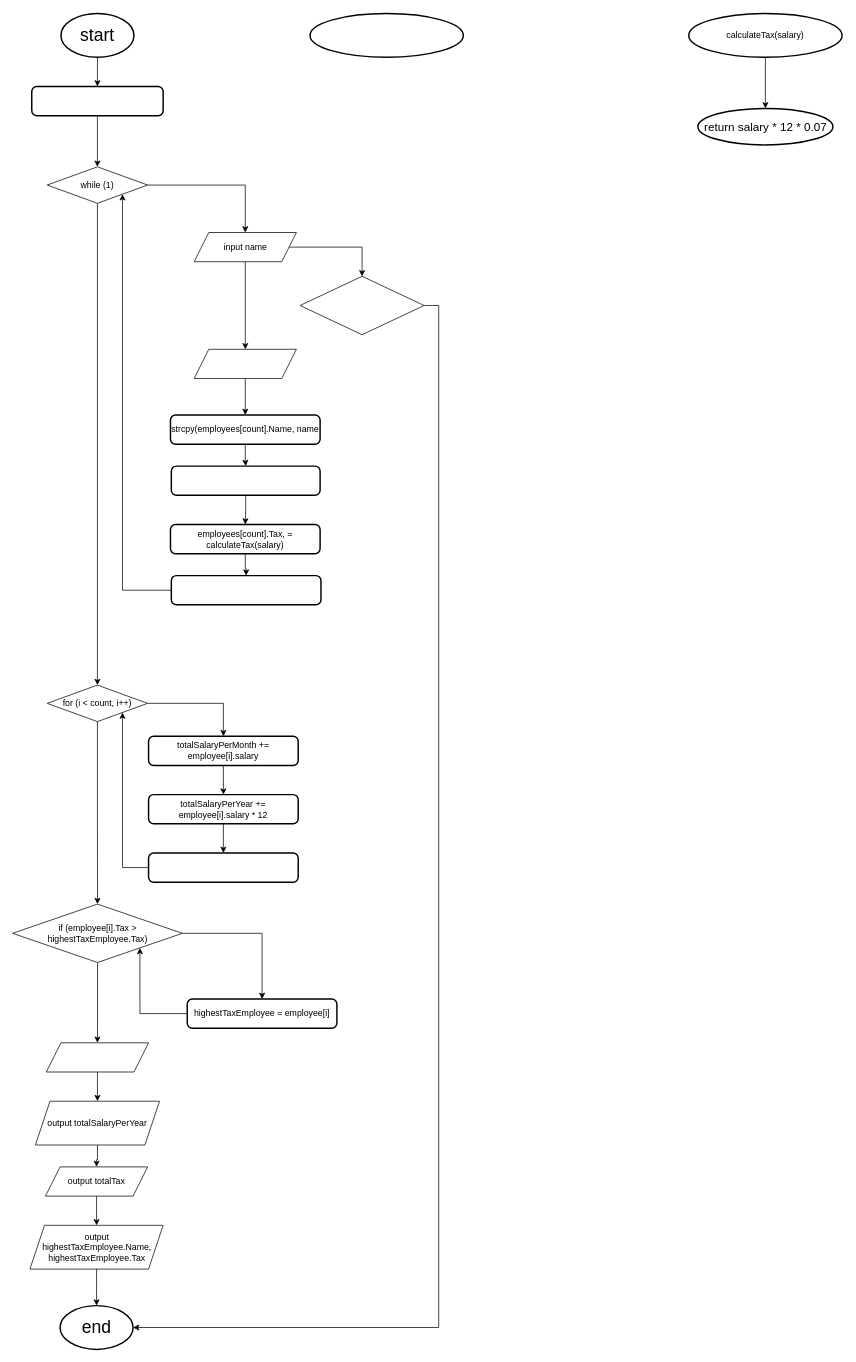
Some shapes in this 856 by 1362 pixel diagram are drawn without their labels. Each missing label, with the centre of its shape:
count++: (x=245, y=590)
Employee = {Name, Salary, Tax}: (x=386, y=35)
Employee employees[100]: (x=97, y=100)
employees[count].Salary = salary: (x=245, y=480)
if (strcmp(name, "1") == 0: (x=361, y=305)
input salary: (x=244, y=364)
output totalSalaryPerMonth: (x=97, y=1057)
totalTax += employees[i].Tax: (x=223, y=867)
